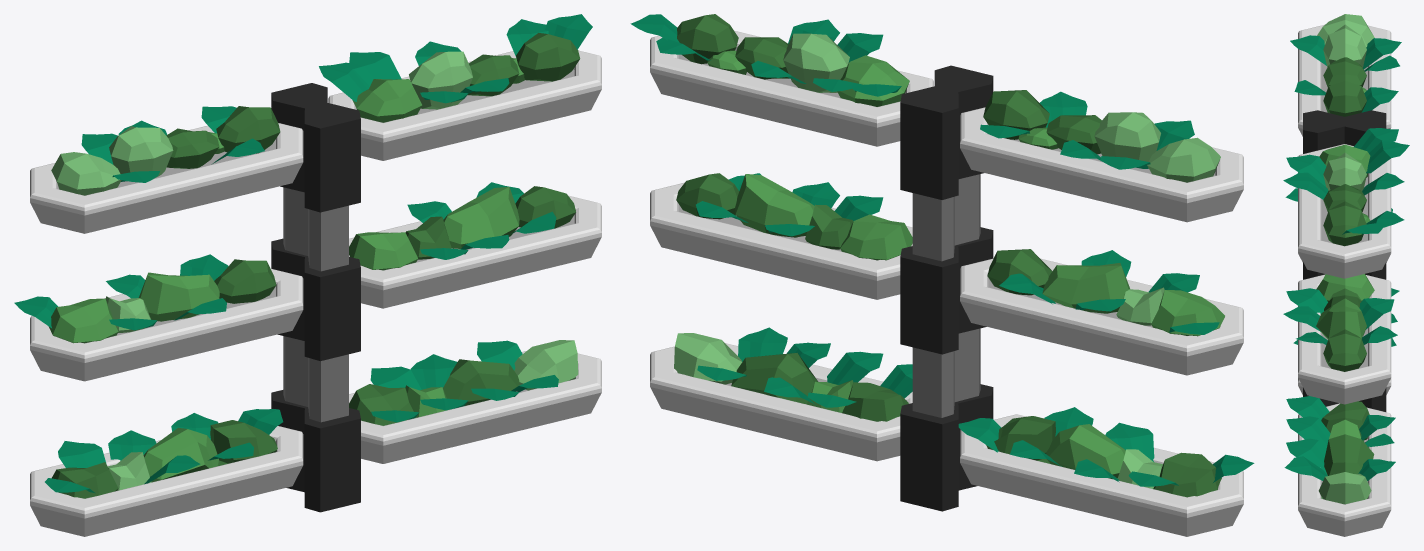
The model's file is Plant_Farm_01.fbx.
3 views of the same model, side by side, from view 1: azimuth 30°, elevation 25°; view 2: azimuth 150°, elevation 25°; view 3: azimuth 270°, elevation 25° (orthographic). The views are drawn at different scales.
Parts seen in each view (by area): view 1: polySurface2361; view 2: polySurface2361; view 3: polySurface2361.
Part boxes in pixels (x1,y1,x2,y2): polySurface2361: (14, 14, 601, 536); polySurface2361: (630, 14, 1254, 536); polySurface2361: (1283, 14, 1409, 536).
Bounding box in the file's own units: 3.34 × 2.26 × 0.7523.
